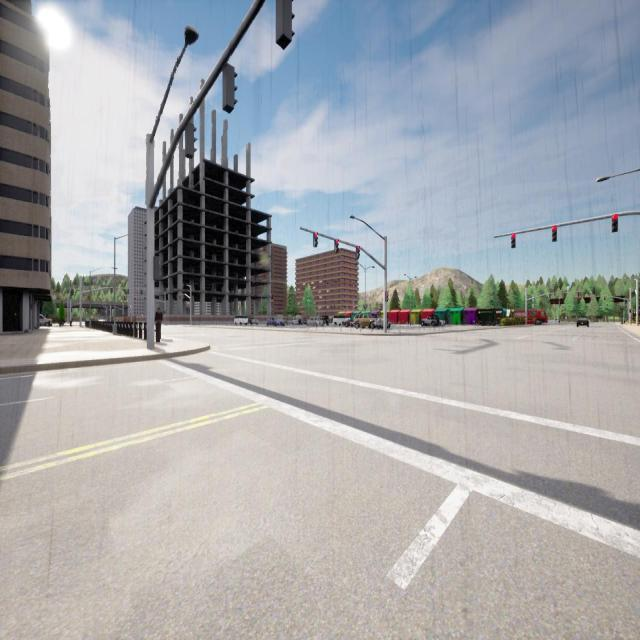Pedestrian: (154, 307, 162, 342)
Vehicle: (354, 314, 376, 328), (371, 318, 390, 329), (422, 316, 438, 326), (267, 318, 284, 326), (333, 316, 348, 325), (40, 315, 52, 326), (308, 318, 322, 327), (234, 316, 248, 324), (578, 318, 588, 327), (287, 318, 298, 325), (322, 316, 329, 325), (346, 320, 353, 327), (251, 320, 258, 326)
traffic_light: (276, 0, 294, 50), (223, 65, 237, 114), (186, 123, 197, 159), (153, 256, 161, 280), (612, 215, 618, 232), (552, 226, 557, 242), (511, 234, 516, 247), (313, 233, 317, 247), (334, 239, 338, 252), (356, 246, 359, 258), (386, 291, 388, 302), (164, 310, 166, 314), (124, 296, 126, 299), (134, 297, 136, 300), (590, 296, 592, 299), (578, 297, 580, 299), (630, 309, 631, 313), (604, 297, 605, 300)
